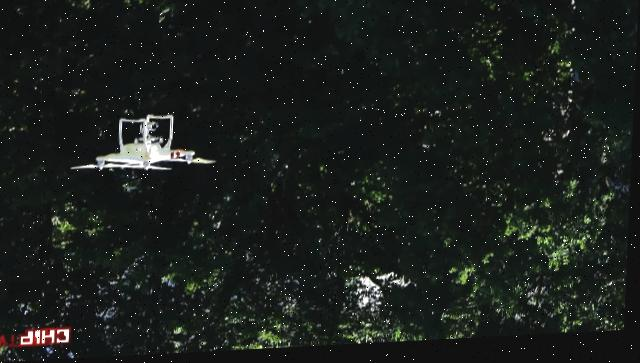drone: (72, 113, 221, 178)
